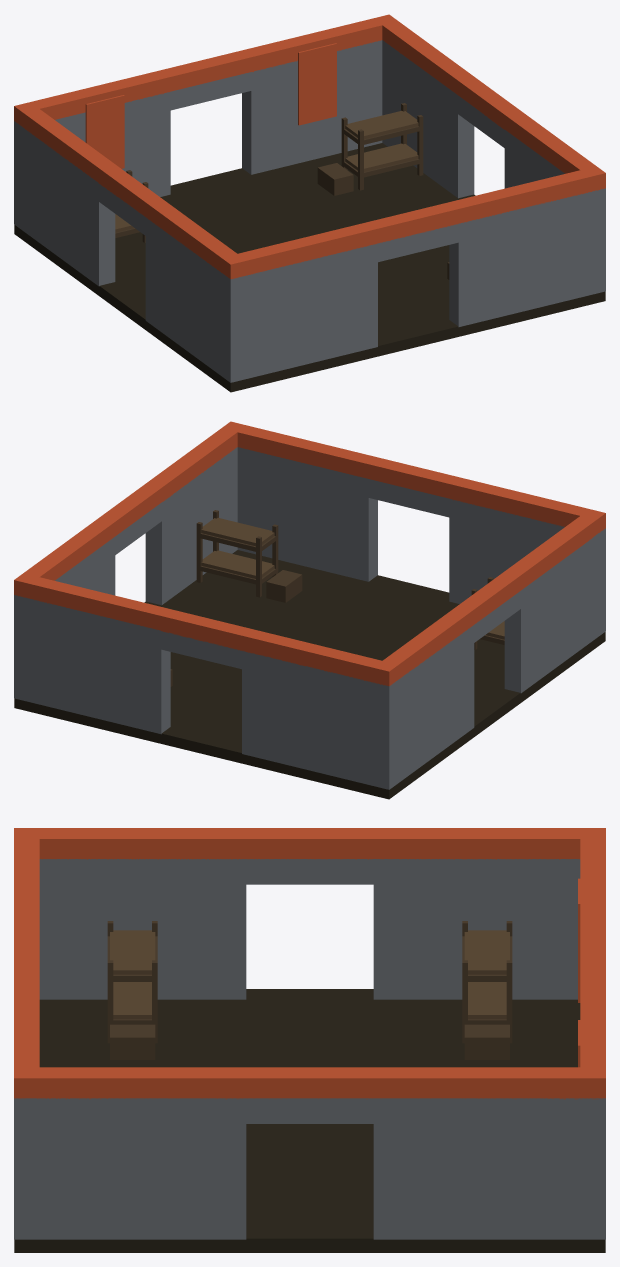
File: BarracksBunk.fbx
3 renders of one model, top to bottom at view 1: azimuth 30°, elevation 25°; view 2: azimuth 150°, elevation 25°; view 3: azimuth 270°, elevation 25°, orthographic. The views are drawn at different scales.
Parts seen in each view (by area): view 1: BarracksBunk; view 2: BarracksBunk; view 3: BarracksBunk.
Boxes of the visible parts, x1,y1,x2,y2 form: BarracksBunk: (14, 14, 605, 392); BarracksBunk: (14, 421, 605, 799); BarracksBunk: (14, 828, 605, 1252).
Size of the model in its own units: 1202 by 392 by 1202.
5 materials, 5 textured.
